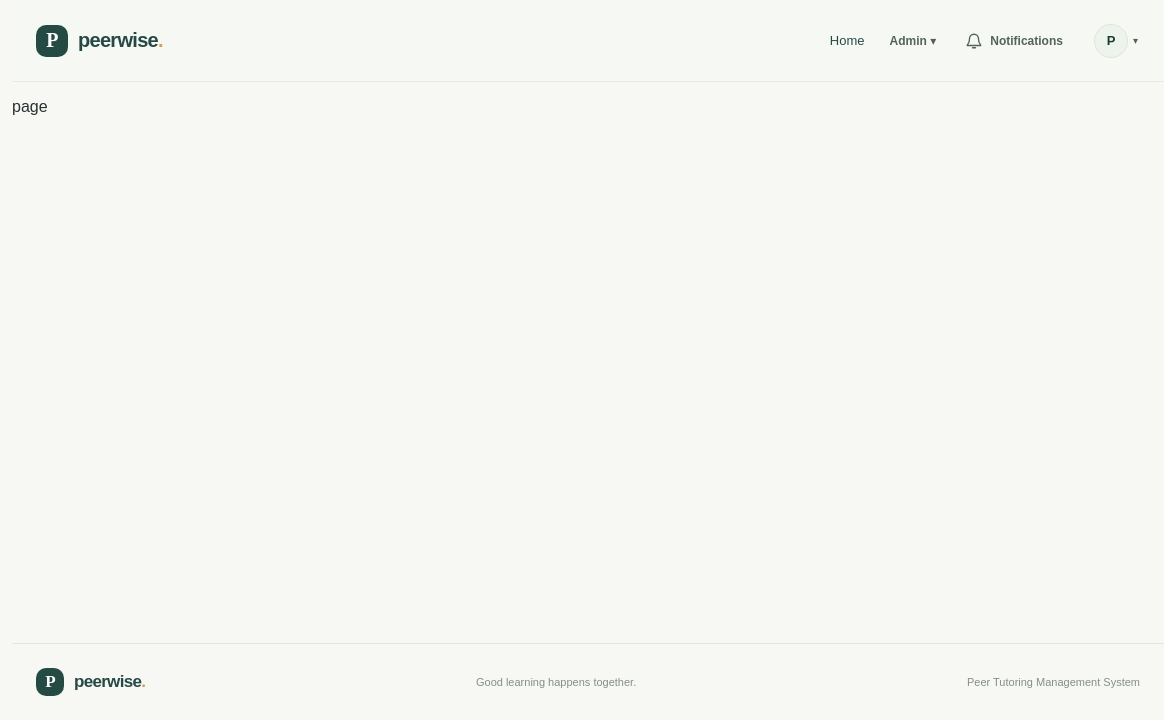
authenticated navigation › keeps administrator navigation separate from Student and Tutor menus
Click the heading "Admin ▾" at (913, 40), box [890,34,936,48]
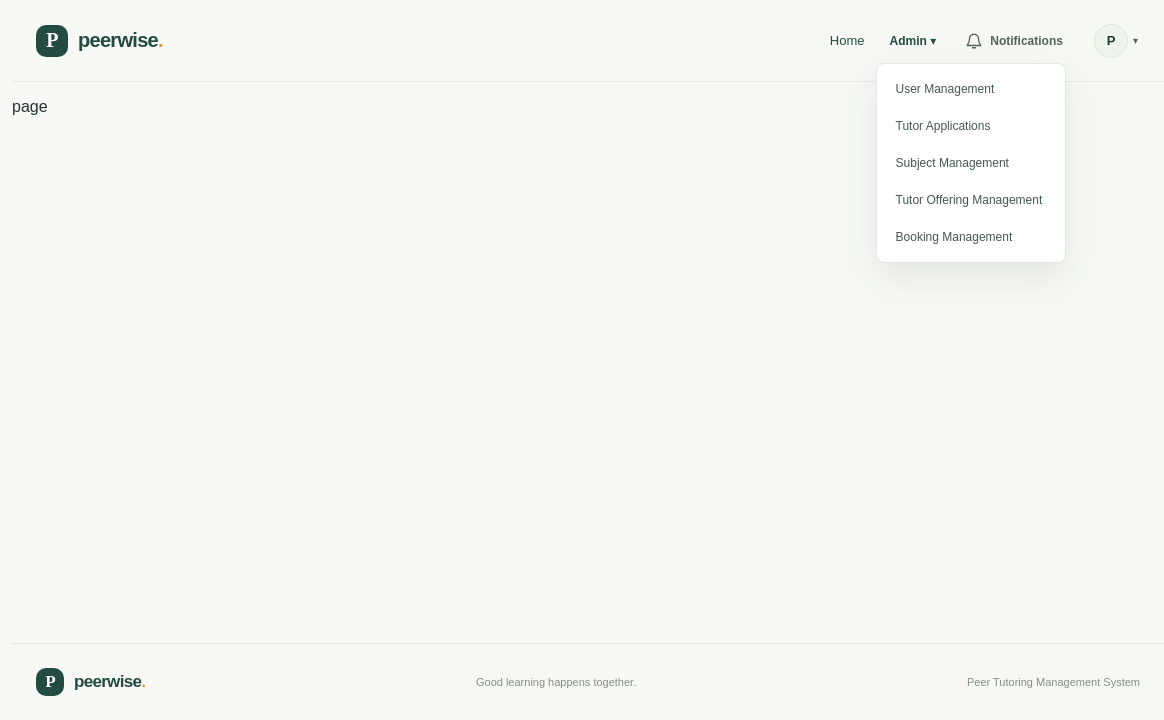
Now the link "Subject Management" is shown, box [896,156,1009,170]
Now the link "User Management" is shown, box [896,82,994,96]
Now the link "Tutor Applications" is shown, box [896,118,990,132]
